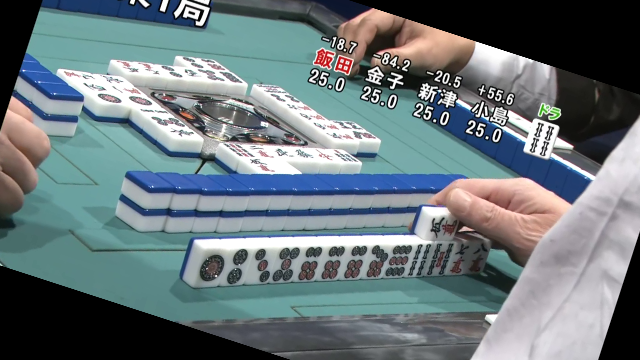Tehai: (182, 229, 488, 288)
